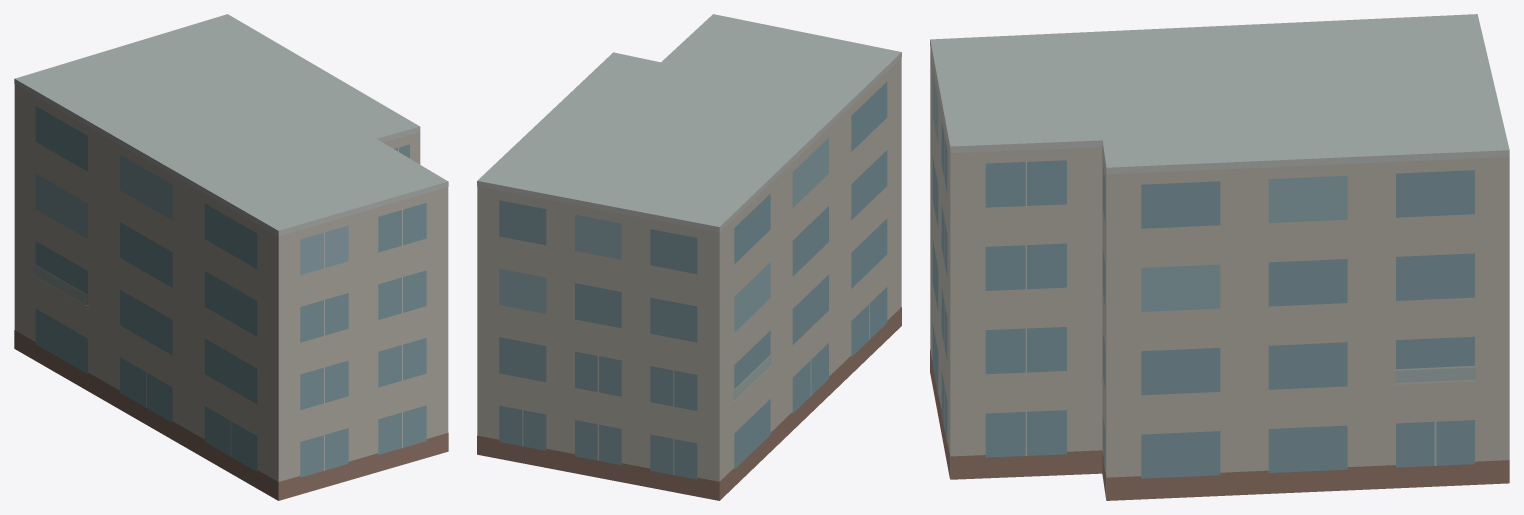
The model's file is survey-upis-32764464.glb.
The picture shows the model from 3 angles, left to right: view 1: azimuth 30°, elevation 25°; view 2: azimuth 150°, elevation 25°; view 3: azimuth 270°, elevation 25°; orthographic projection. The views are drawn at different scales.
Parts seen in each view (by area): view 1: survey-upis-32764464.tmp; view 2: survey-upis-32764464.tmp; view 3: survey-upis-32764464.tmp.
Part boxes in pixels (<box>): survey-upis-32764464.tmp: <box>14,14,448,500</box>; survey-upis-32764464.tmp: <box>477,14,901,500</box>; survey-upis-32764464.tmp: <box>930,14,1509,500</box>.
Size of the model in its own units: 12.08 by 12.2 by 19.24.
